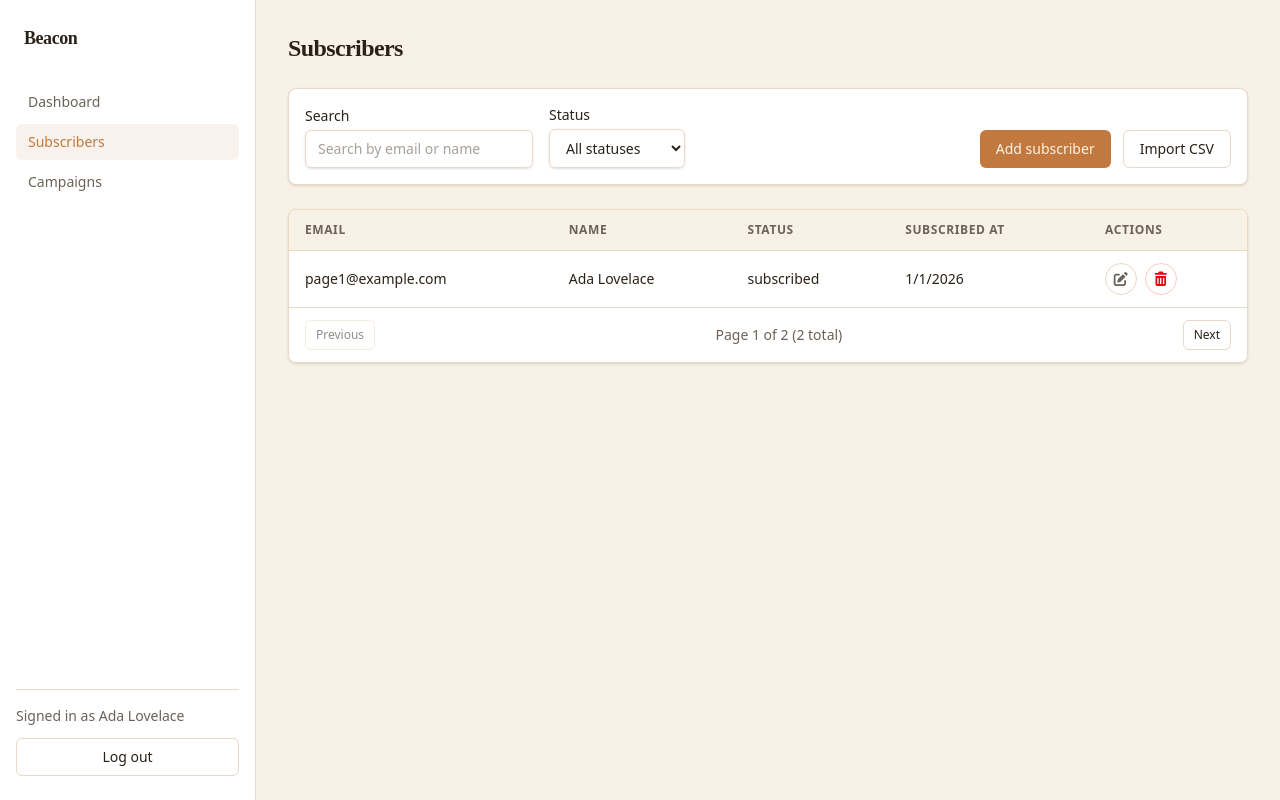
Scenario: SubscriberListPage › returns to the previous page after deleting the last row on it
Expected: the text "page1@example.com" is shown, 289,250 -> 553,307
Click the button "Next": (1207, 335) 1183,320 -> 1231,350
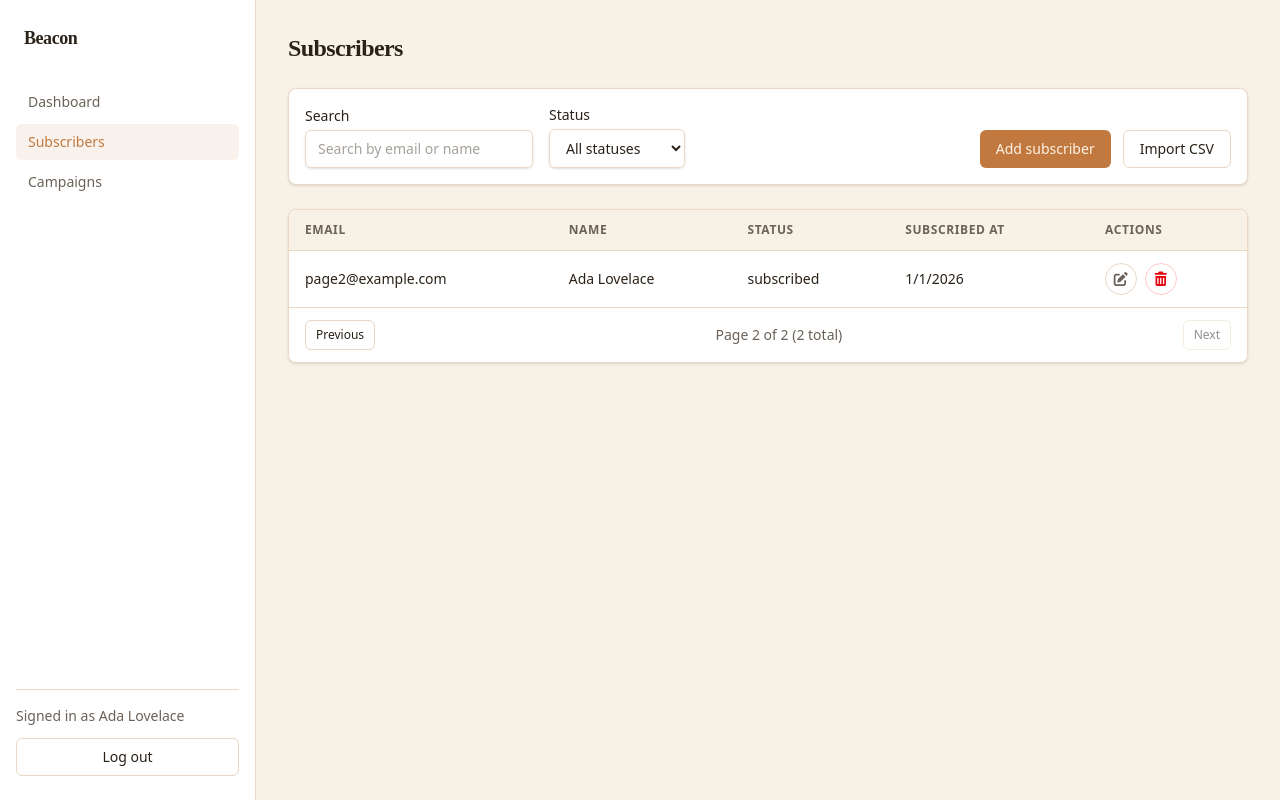
Result: the text "page2@example.com" is shown at 289,250 -> 553,307
Click the button named "Delete": (1161, 279) 1145,263 -> 1177,295
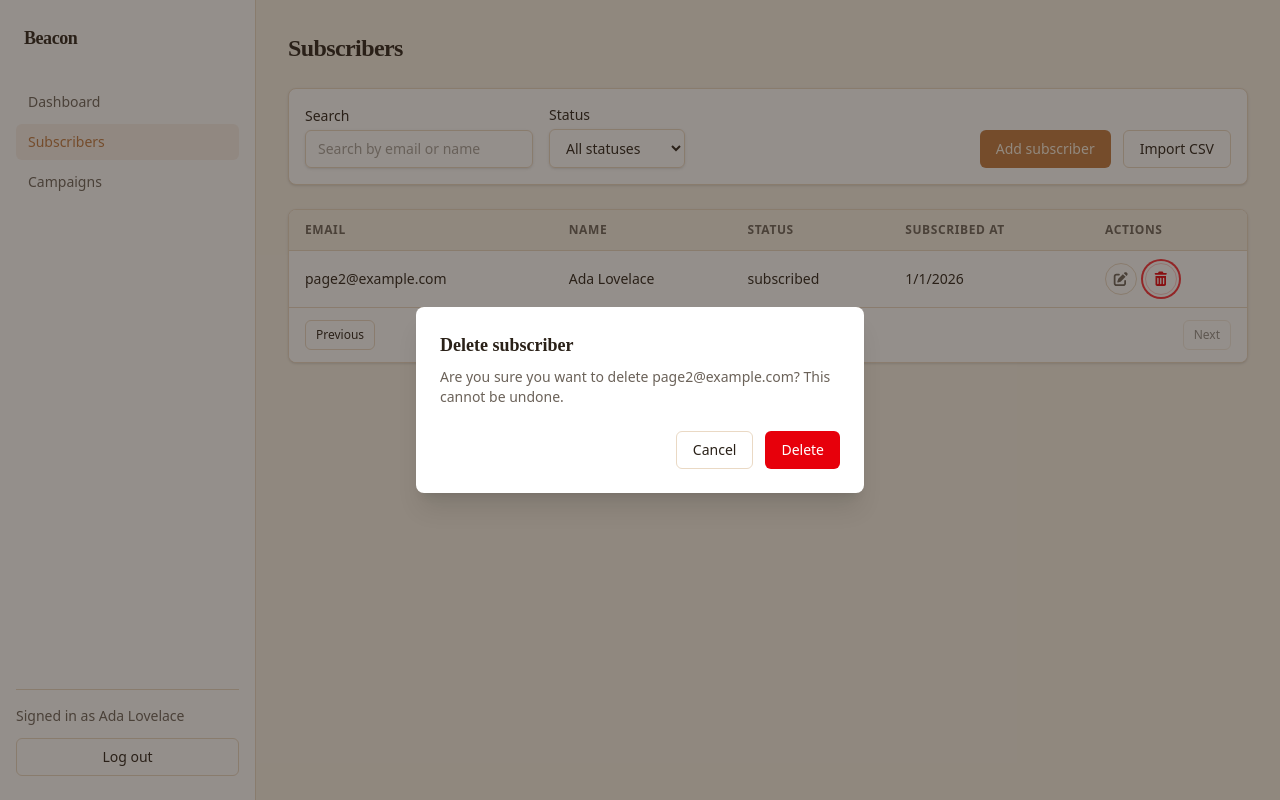
Click the button "Delete": (803, 450) 765,431 -> 840,469
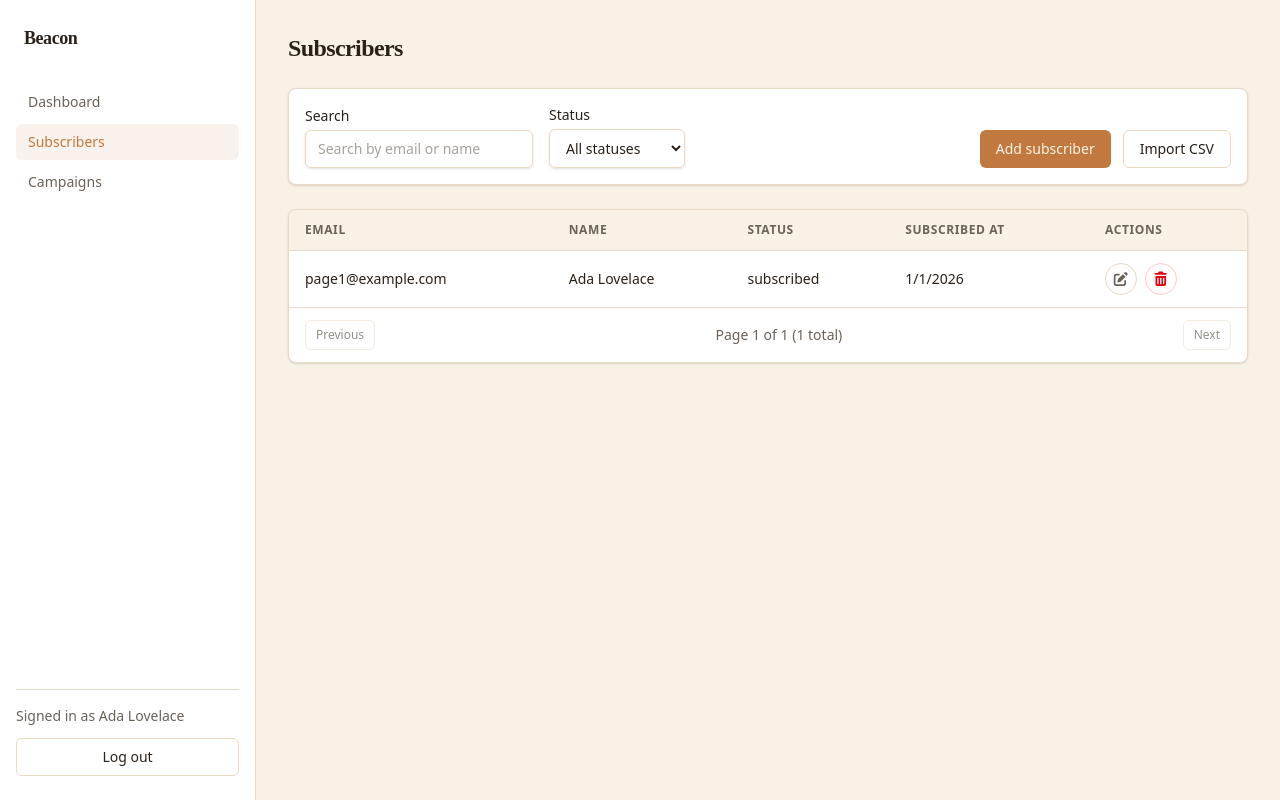
Result: the text "page1@example.com" is shown at 289,250 -> 553,307
Result: the text "Page 1 of 1 (1 total)" is shown at 716,325 -> 842,345
